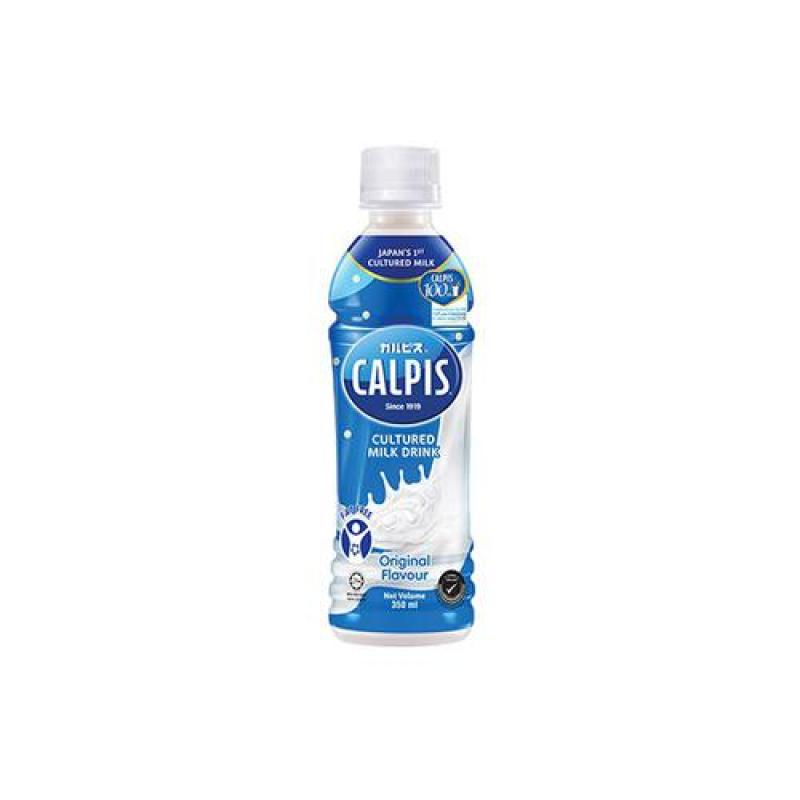botella: (323, 136, 492, 657)
